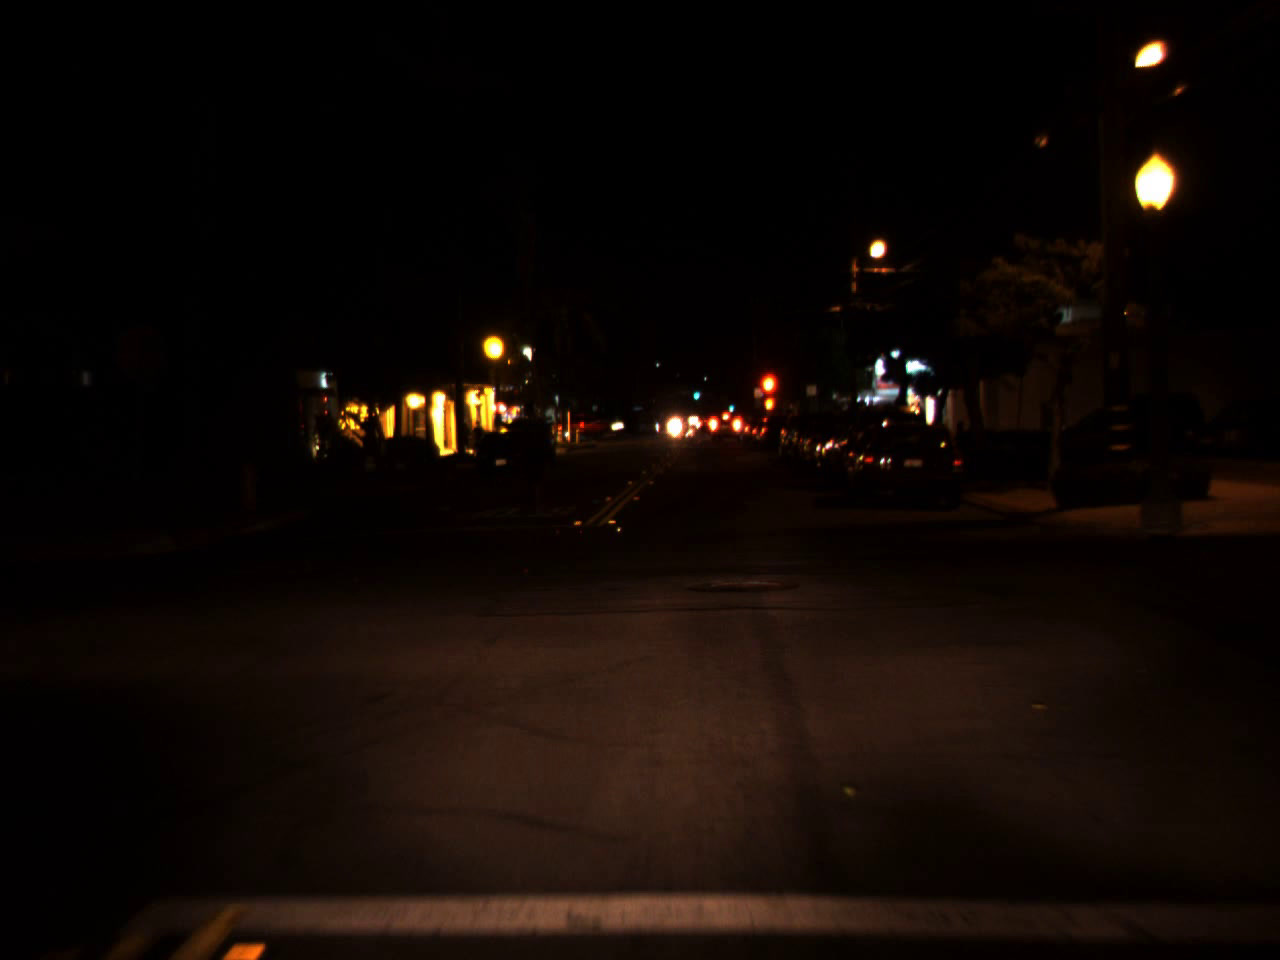go: (726, 393, 735, 414), (691, 383, 700, 401)
stop: (757, 369, 779, 423)
